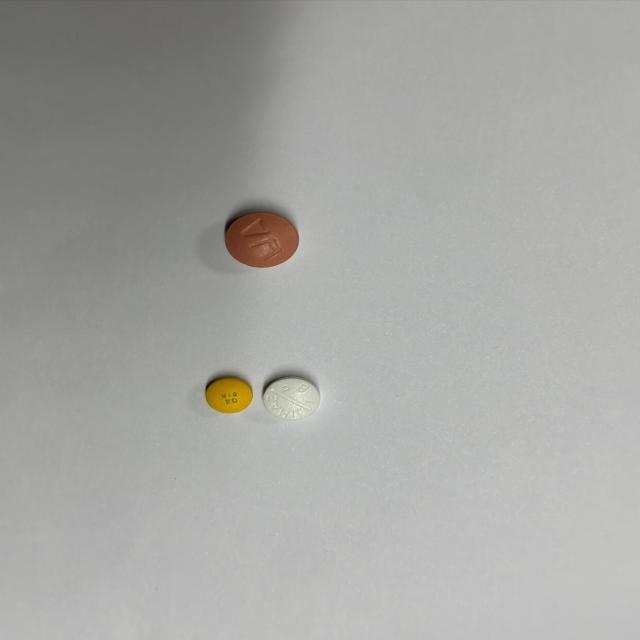Piller: (225, 212, 298, 268), (263, 377, 320, 420), (205, 378, 253, 414)
